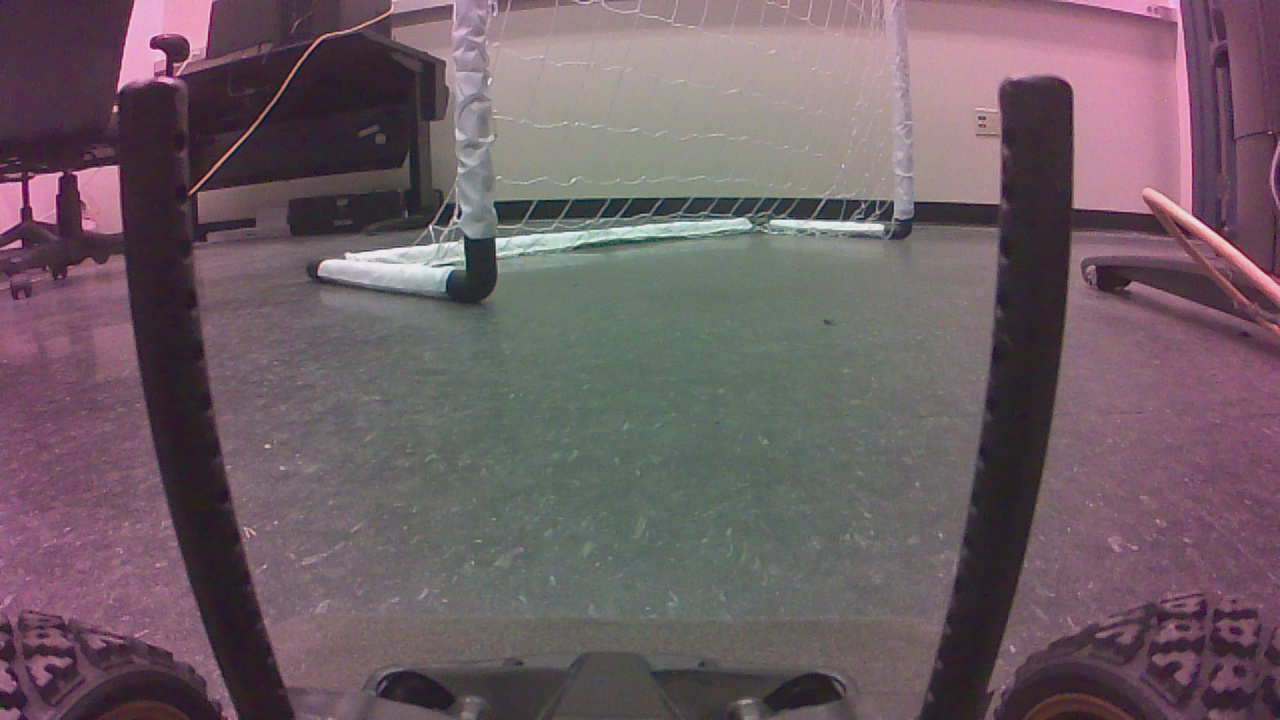goal: (309, 2, 922, 310)
